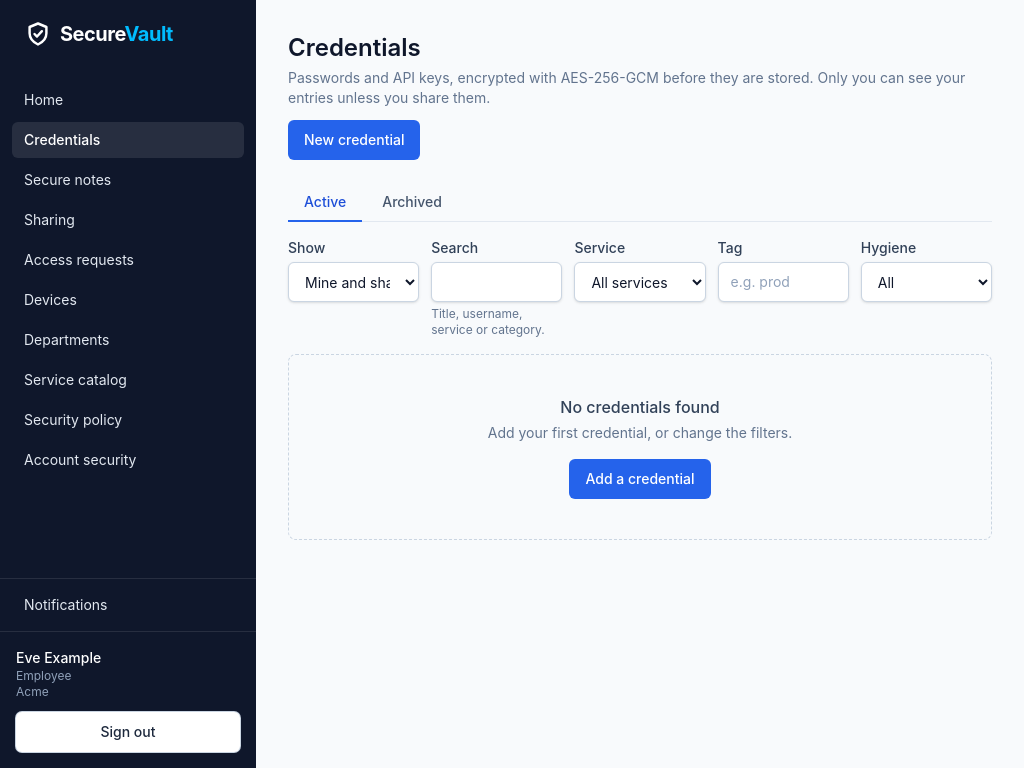
it: credentials vault › creates a credential with a generated password, live strength feedback and normalised tags
Click the button "New credential". click: x=354, y=140
box: [288,120,420,160]
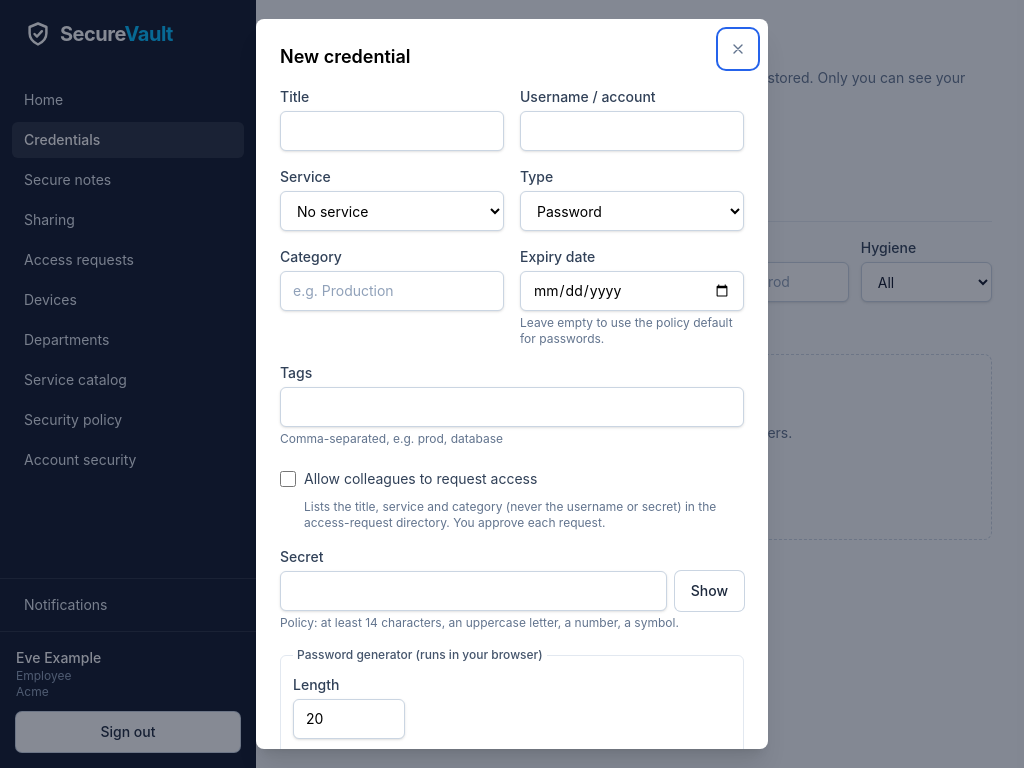
Type "Billing DB" into the field labelled "Title". click: x=392, y=131
box: [280,111,504,151]
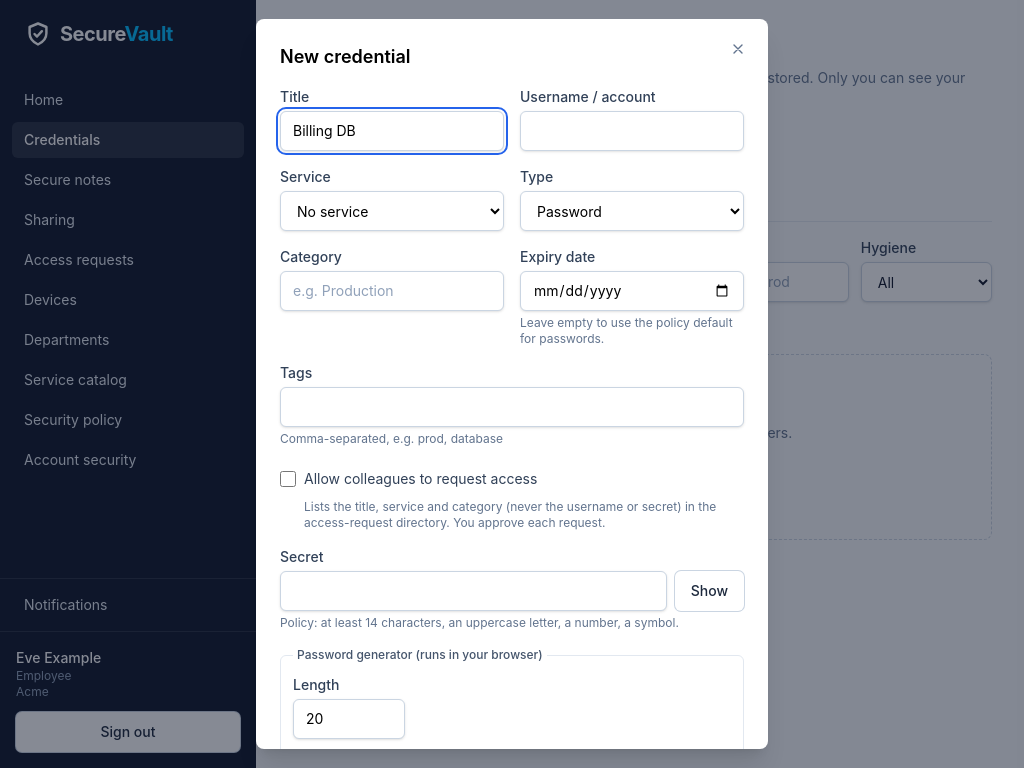
Type "Prod, db" into the field labelled "Tags". click: x=512, y=407
box: [280,387,744,427]
(page scrolled)
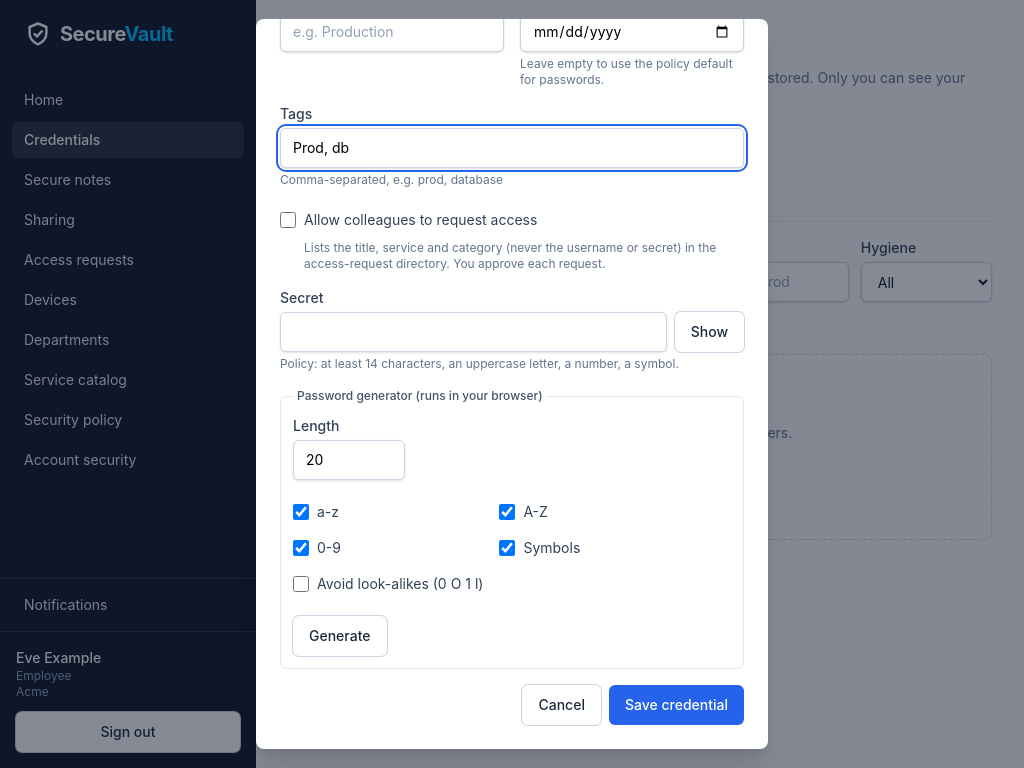
Click the button "Generate". click: x=340, y=636
box: [293,616,386,656]
(page scrolled)
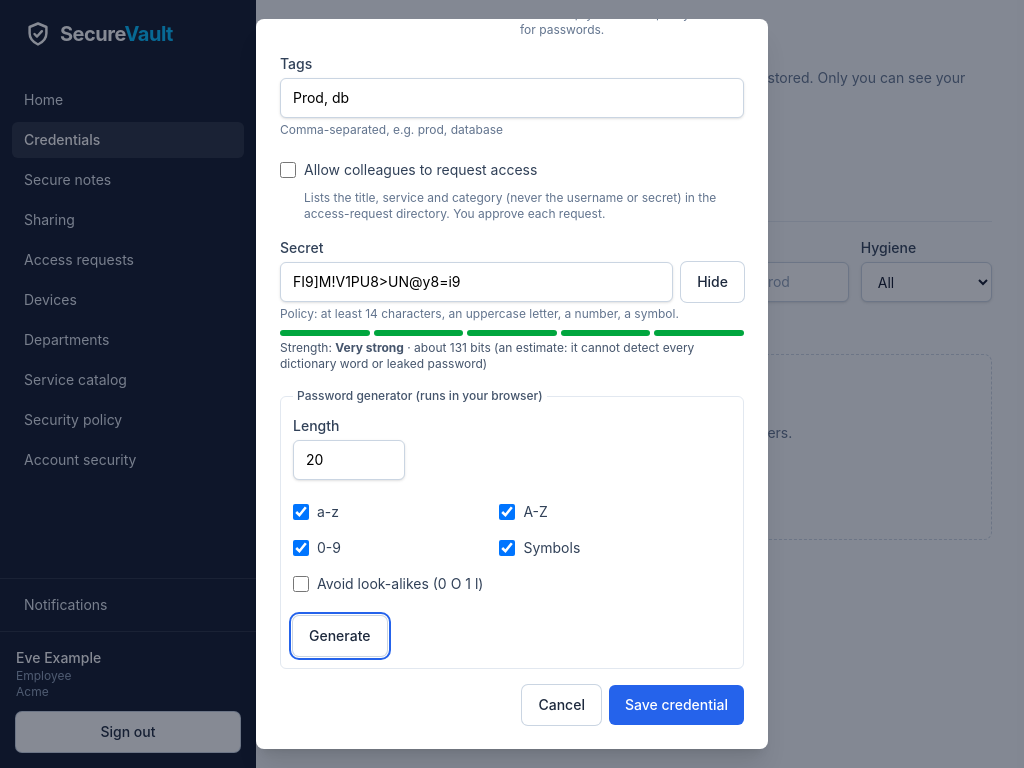
Now the text "Strength:" is shown, box [280,340,335,355]
Click the button "Save credential". click: x=676, y=705
box: [609,685,744,725]
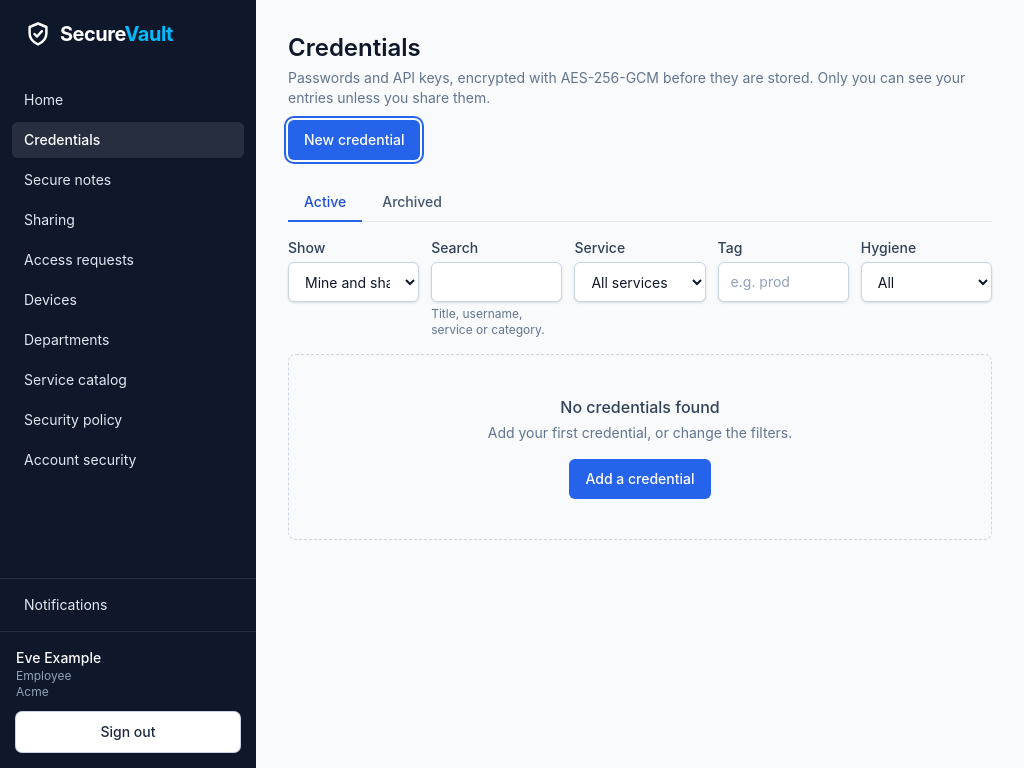
Now the dialog is gone
